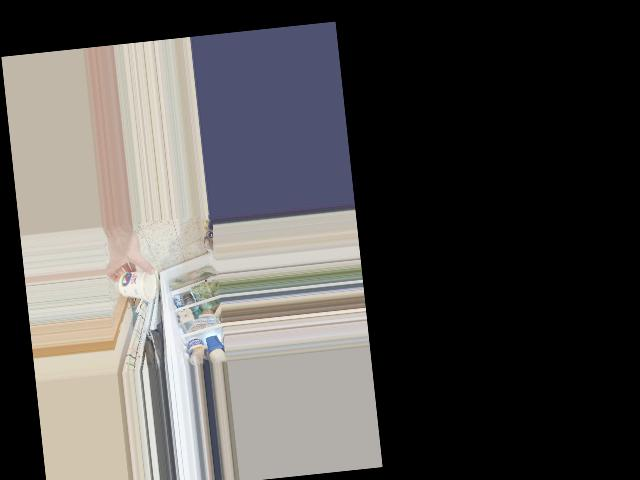cotage: (118, 265, 157, 303)
